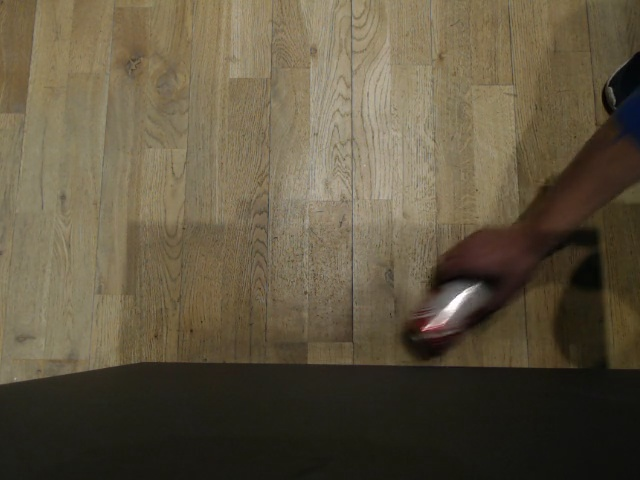cola: (401, 278, 492, 359)
